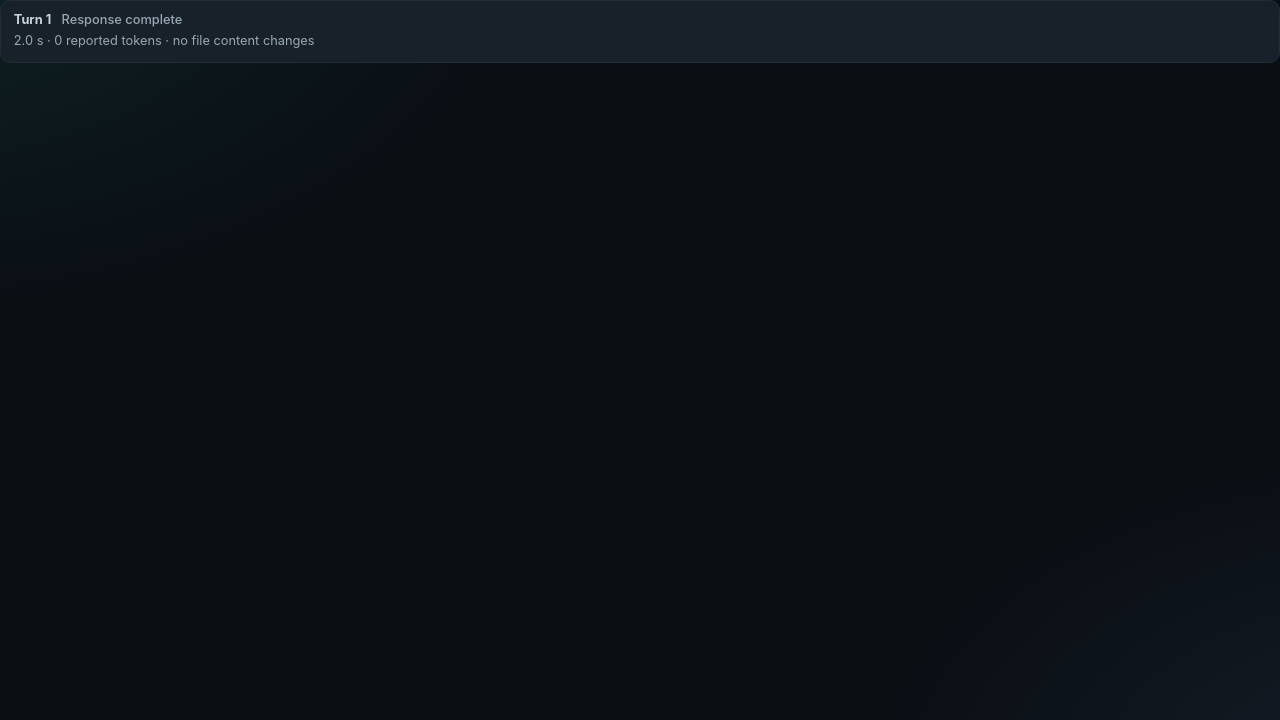
AgentTurnDetails › displays genuine zero counts and unchanged file receipts
Click the heading named "Turn 1 details" at (164, 30), box [14, 12, 315, 48]
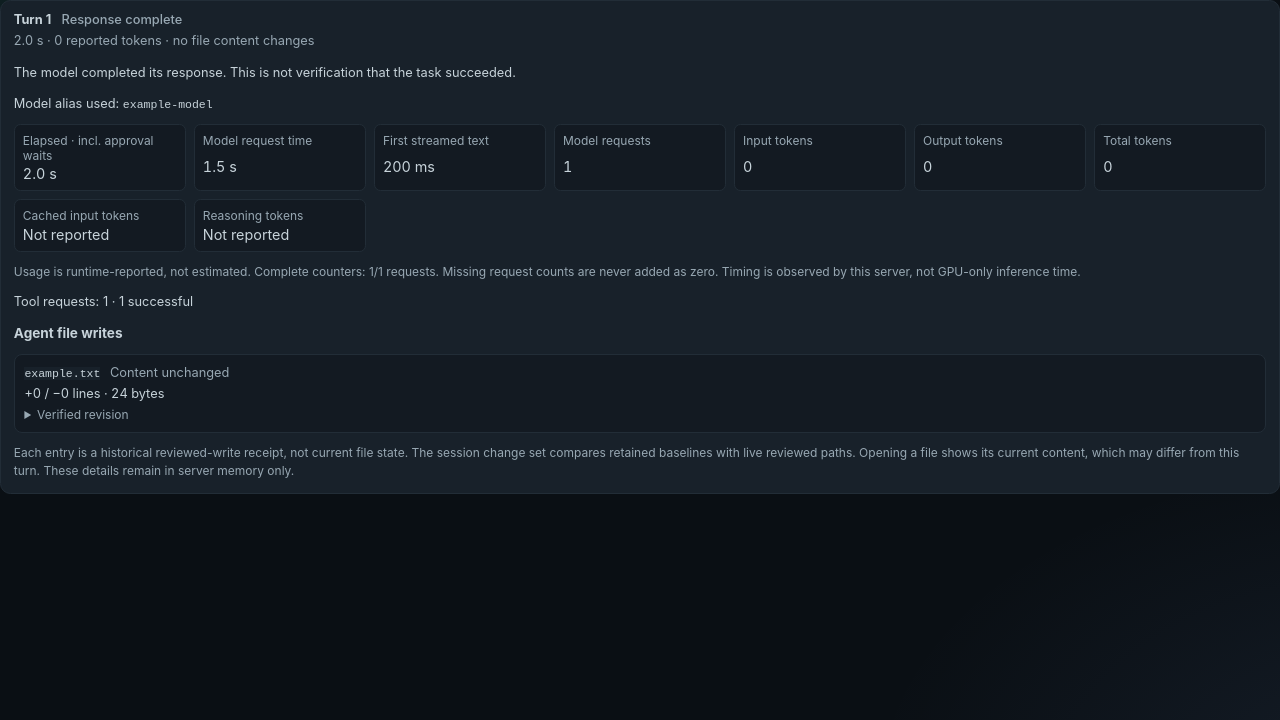
Expected: the text "2.0 s · 0 reported tokens · no file content changes" is shown, [14, 33, 315, 48]
Now the text "Content unchanged" is shown, box [110, 365, 229, 380]
Now the text "+0 / −0 lines · 24 bytes" is shown, box [24, 386, 164, 401]
